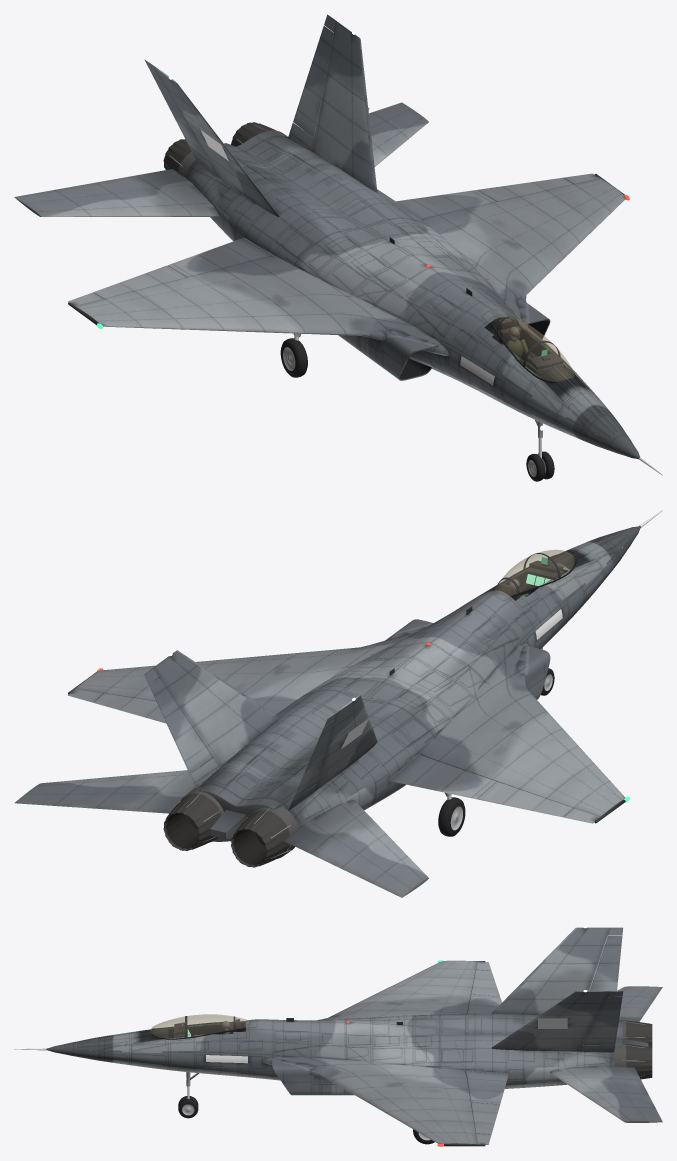
File: jet.glb
3 views of the same model, one above another, from view 1: azimuth 30°, elevation 25°; view 2: azimuth 150°, elevation 25°; view 3: azimuth 270°, elevation 25° (orthographic). The views are drawn at different scales.
Visible parts, largest first — view 1: rumpf, fluegel_r, fluegel_l, flosse_l, hoehe_r, flosse_r, haube, einlauf_r, hoehe_l, seite_l, klappe_r, klappe_l (+3 smaller); view 2: rumpf, fluegel_r, fluegel_l, hoehe_r, flosse_l, hoehe_l, flosse_r, klappe_r, seite_l, haube, duese_mantel_r, querruder_r (+8 smaller); view 3: rumpf, fluegel_l, flosse_r, fluegel_r, hoehe_l, flosse_l, einlauf_l, haube, seite_r, klappe_l, seite_l, hoehe_r (+6 smaller).
Part boxes in pixels (x1,y1,x2,y2): rumpf: (185, 131, 639, 459); fluegel_r: (75, 256, 449, 356); fluegel_l: (421, 178, 625, 329); flosse_l: (312, 21, 377, 192); hoehe_r: (14, 169, 219, 216); flosse_r: (153, 65, 279, 216); haube: (492, 315, 574, 381); einlauf_r: (338, 330, 438, 380); hoehe_l: (369, 102, 428, 166); seite_l: (293, 26, 333, 137); klappe_r: (168, 238, 271, 277); klappe_l: (396, 190, 496, 219); rumpf: (188, 526, 640, 846); fluegel_r: (419, 643, 625, 816); fluegel_l: (75, 632, 415, 714); hoehe_r: (283, 800, 428, 897); flosse_l: (153, 650, 279, 767); hoehe_l: (14, 769, 195, 813); flosse_r: (314, 695, 377, 791); klappe_r: (390, 754, 496, 799); seite_l: (149, 677, 212, 773); haube: (494, 549, 574, 595); duese_mantel_r: (231, 810, 289, 867); querruder_r: (477, 781, 573, 817); rumpf: (46, 1013, 622, 1088); fluegel_l: (262, 1056, 477, 1144); flosse_r: (491, 927, 609, 1015); fluegel_r: (319, 960, 477, 1019); hoehe_l: (550, 1066, 662, 1122); flosse_l: (491, 991, 610, 1051); einlauf_l: (272, 1059, 354, 1095); haube: (150, 1014, 249, 1038); seite_r: (589, 936, 622, 991); klappe_l: (465, 1071, 508, 1104); seite_l: (583, 996, 622, 1045); hoehe_r: (617, 986, 662, 1021).
Size of the model in its own units: 13.54 by 5.4 by 20.1.
26 materials, 1 textured.
